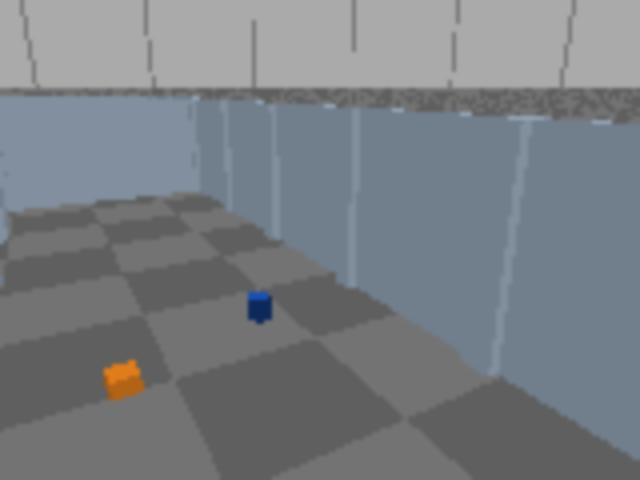puck: (102, 360, 143, 403), (247, 291, 271, 322)
